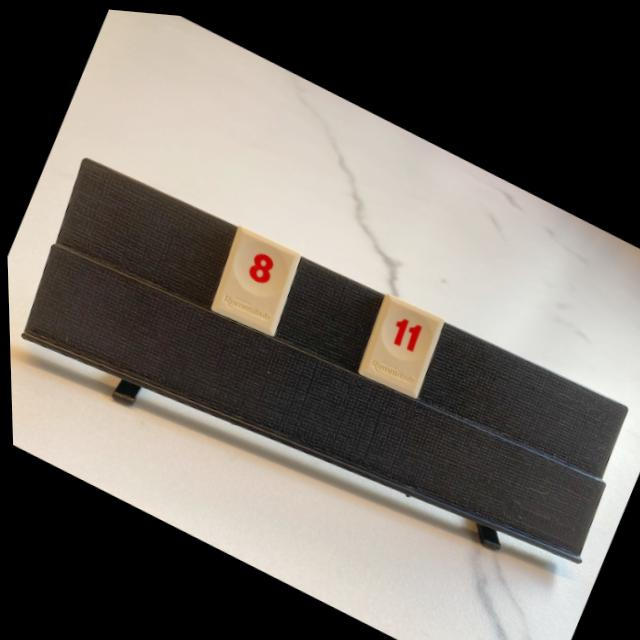red_11: (355, 287, 442, 391)
red_8: (209, 221, 299, 331)
